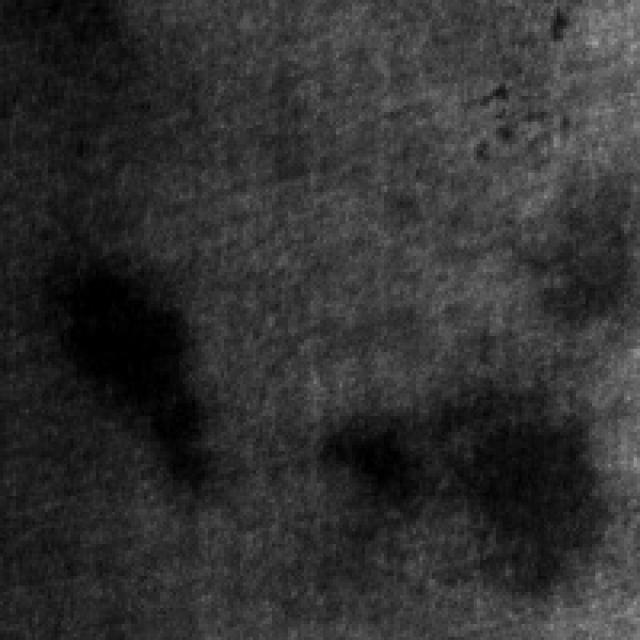patches: (419, 362, 608, 586), (45, 237, 189, 448), (515, 176, 637, 333), (317, 388, 429, 518)
